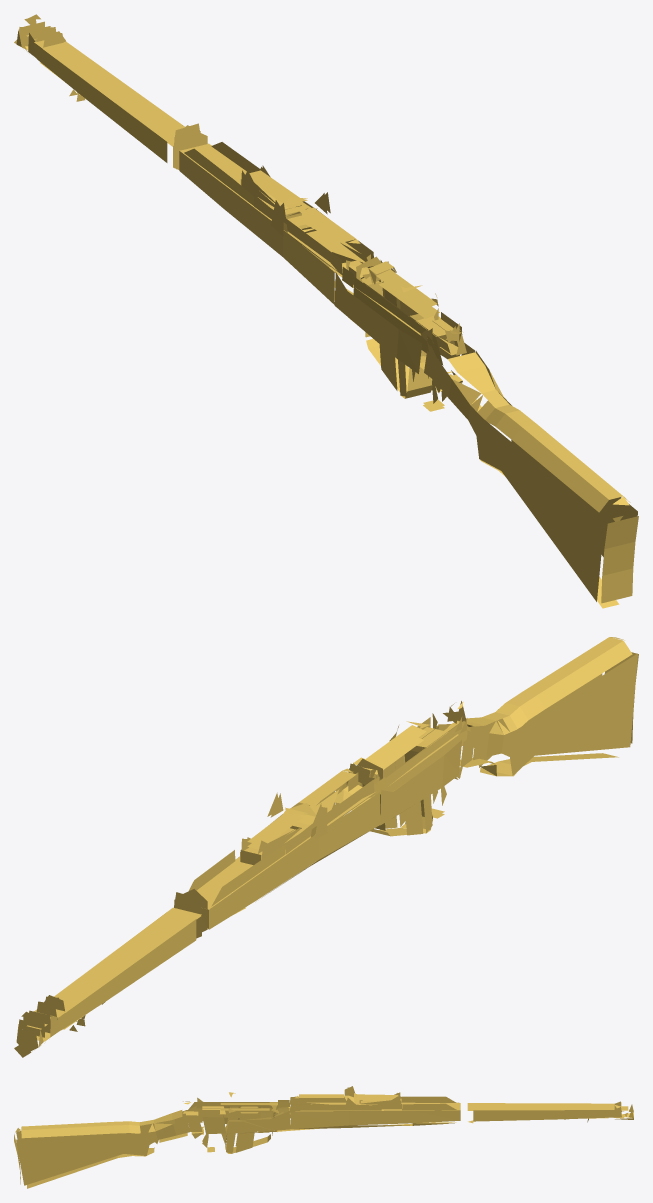
Rendered from charm_mst_sniper_3.glb.
3 renders of one model, top to bottom at view 1: azimuth 30°, elevation 25°; view 2: azimuth 150°, elevation 25°; view 3: azimuth 270°, elevation 25°, orthographic. The views are drawn at different scales.
Visible parts, largest first — view 1: p0_paint; view 2: p0_paint; view 3: p0_paint.
Part boxes in pixels (x1=…): p0_paint: x1=14, y1=14, x2=638, y2=608; p0_paint: x1=14, y1=637, x2=638, y2=1057; p0_paint: x1=14, y1=1086, x2=633, y2=1188.
Bounding box in the file's own units: 0.0522 × 0.1901 × 1.13.
